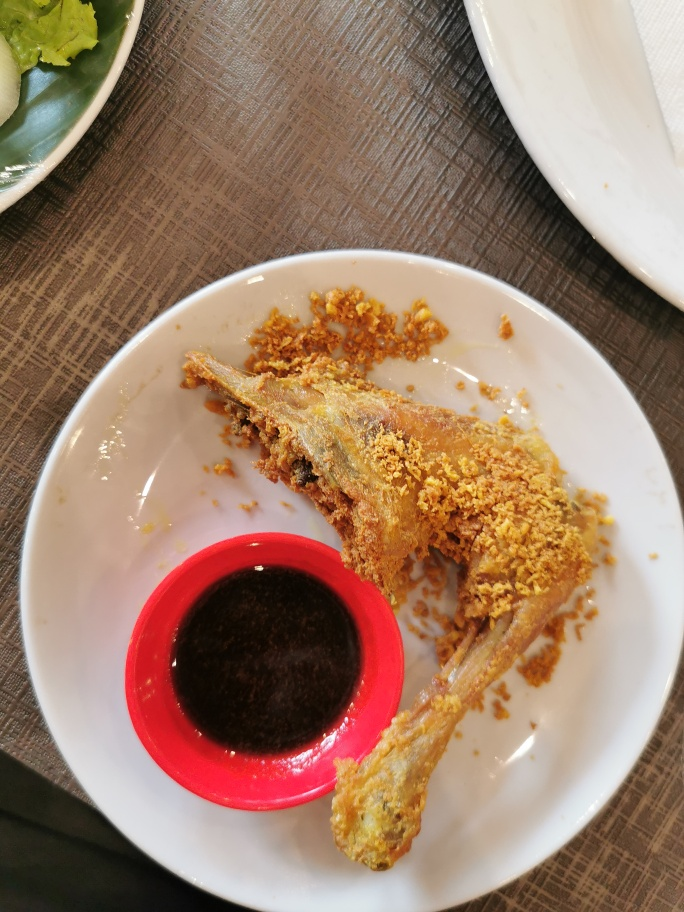ayam goreng: (180, 349, 601, 874)
kecap: (119, 531, 404, 809)
